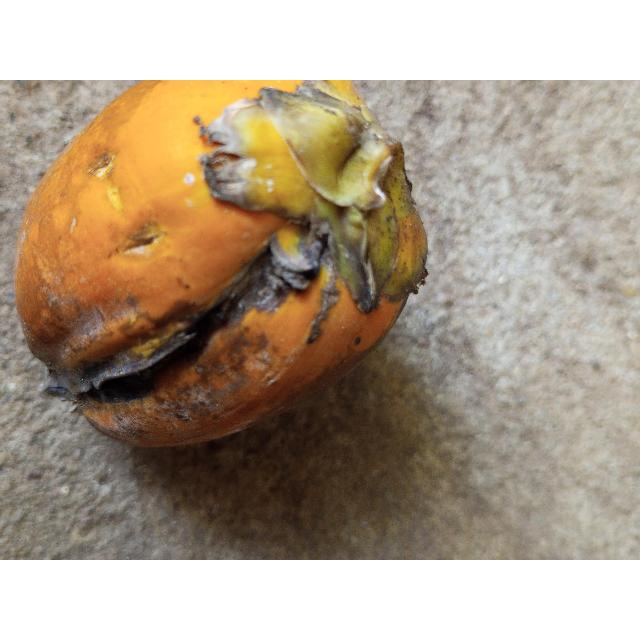damaged: (15, 80, 427, 445)
